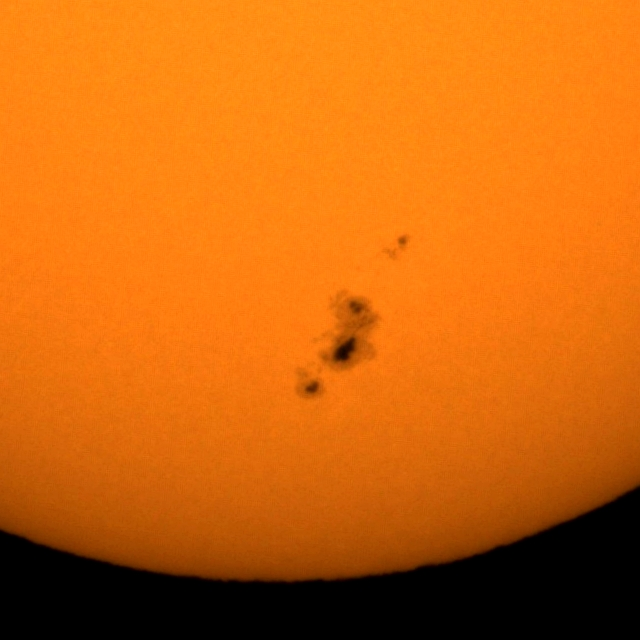sunspot: (312, 289, 383, 372), (295, 364, 333, 404), (380, 233, 412, 262)
